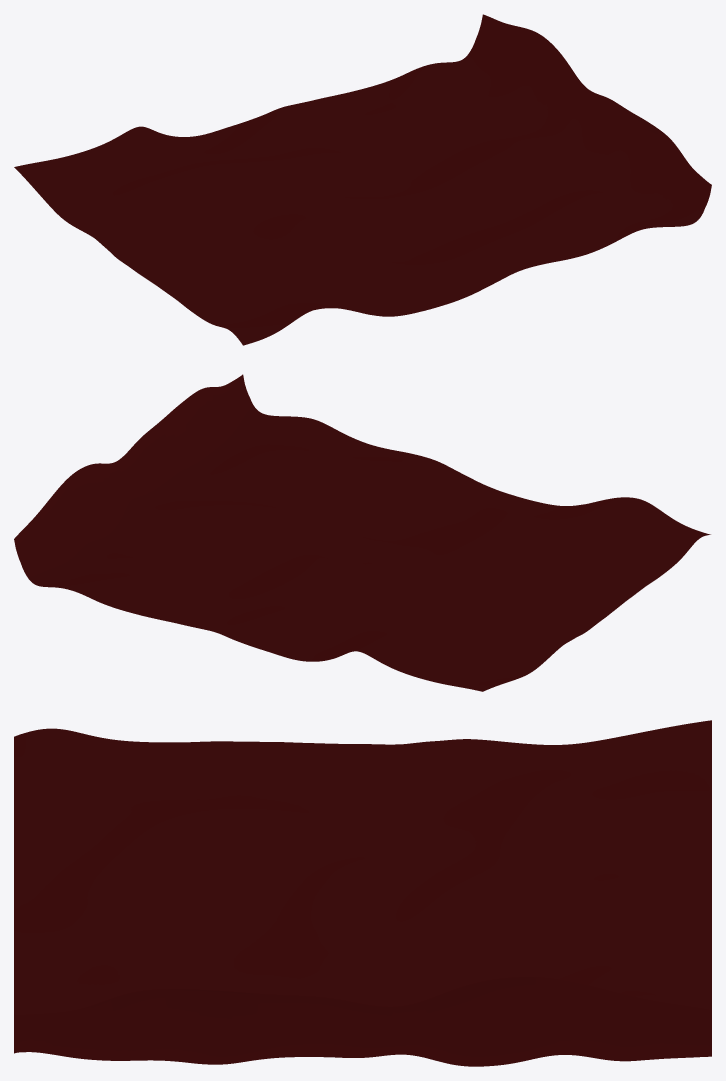
The model's file is DesertHoles2.fbx.
3 renders of one model, top to bottom at view 1: azimuth 30°, elevation 25°; view 2: azimuth 150°, elevation 25°; view 3: azimuth 270°, elevation 25°, orthographic. The views are drawn at different scales.
Visible parts, largest first — view 1: Landscape2; view 2: Landscape2; view 3: Landscape2.
Boxes of the visible parts, x1,y1,x2,y2 form: Landscape2: [14, 14, 711, 345]; Landscape2: [14, 374, 710, 691]; Landscape2: [14, 720, 711, 1066].
Bounding box in the file's own units: 54600 × 46200 × 9018.
